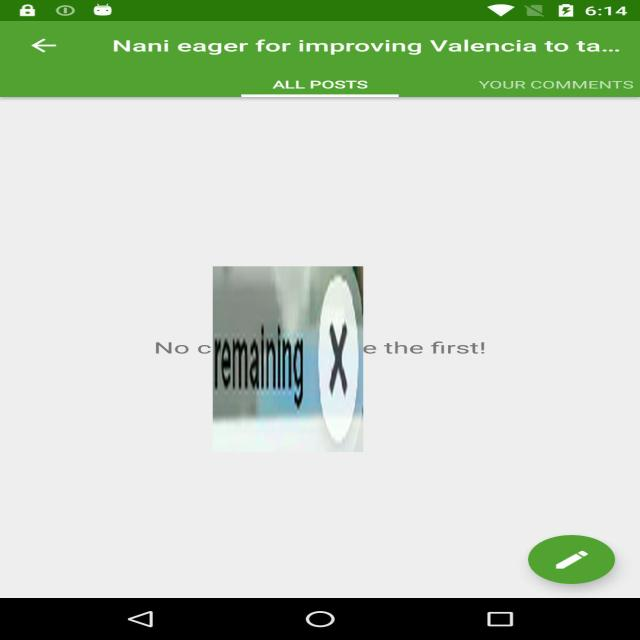misdirection: (213, 266, 363, 452)
